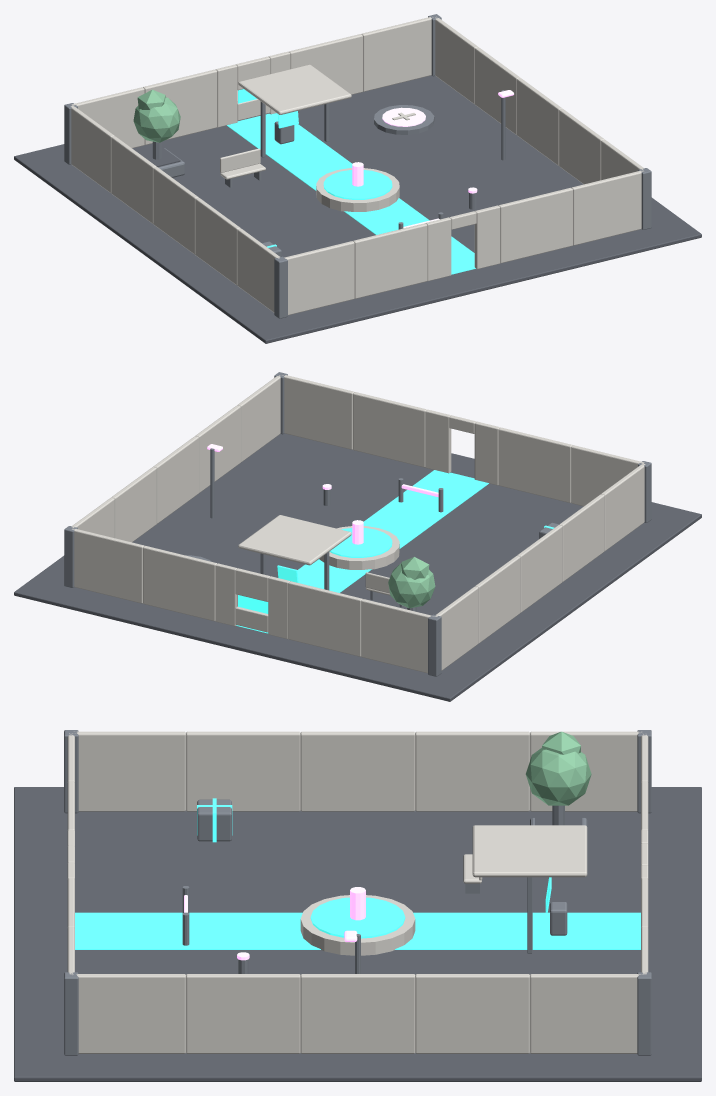
File: future_courtyard_environment.glb
3 renders of one model, top to bottom at view 1: azimuth 30°, elevation 25°; view 2: azimuth 150°, elevation 25°; view 3: azimuth 270°, elevation 25°, orthographic. The views are drawn at different scales.
Parts seen in each view (by area): view 1: ENV_Ground, ENV_CentralWalkway, KIT_WallSolid_S_-4, KIT_WallSolid_S_+4, KIT_WallSolid_S_+8, KIT_WallSolid_N_+8, KIT_WallSolid_S_-8, KIT_Canopy_Roof, KIT_WallSolid_N_-4, KIT_WallSolid_N_+4, KIT_WallSolid_W_+0, KIT_WallSolid_W_+4 (+21 smaller); view 2: ENV_Ground, ENV_CentralWalkway, KIT_WallSolid_N_-4, KIT_WallSolid_S_-4, KIT_WallSolid_N_+4, KIT_WallSolid_S_+4, KIT_WallSolid_N_+8, KIT_WallSolid_S_+8, KIT_WallSolid_N_-8, KIT_Canopy_Roof, KIT_WallSolid_W_+0, KIT_WallSolid_W_+4 (+20 smaller); view 3: ENV_Ground, ENV_CentralWalkway, KIT_WallSolid_W_+0, KIT_WallSolid_E_+0, KIT_WallSolid_W_+4, KIT_WallSolid_E_+4, KIT_WallSolid_E_-4, KIT_WallSolid_W_-4, KIT_WallSolid_W_-8, KIT_WallSolid_E_+8, KIT_WallSolid_E_-8, KIT_Canopy_Roof (+11 smaller).
Boxes of the visible parts, x1,y1,x2,y2 form: ENV_Ground: (14,75,701,343); ENV_CentralWalkway: (227,113,475,274); KIT_WallSolid_S_-4: (353,223,427,298); KIT_WallSolid_S_+4: (498,187,572,263); KIT_WallSolid_S_+8: (571,170,643,245); KIT_WallSolid_N_+8: (361,17,433,91); KIT_WallSolid_S_-8: (284,241,354,315); KIT_Canopy_Roof: (238,64,351,114); KIT_WallSolid_N_-4: (143,69,217,144); KIT_WallSolid_N_+4: (289,34,362,94); KIT_WallSolid_W_+0: (153,167,198,254); KIT_WallSolid_W_+4: (111,136,156,223); ENV_Ground: (14,433,701,701); ENV_CentralWalkway: (236,470,488,633); KIT_WallSolid_N_-4: (288,581,362,656); KIT_WallSolid_S_-4: (498,427,572,502); KIT_WallSolid_N_+4: (143,545,217,621); KIT_WallSolid_S_+4: (353,392,426,467); KIT_WallSolid_N_+8: (72,529,144,603); KIT_WallSolid_S_+8: (282,375,354,449); KIT_WallSolid_N_-8: (361,599,434,673); KIT_Canopy_Roof: (238,515,351,565); KIT_WallSolid_W_+0: (517,525,562,612); KIT_WallSolid_W_+4: (475,555,520,643); ENV_Ground: (14,787,701,1081); ENV_CentralWalkway: (75,912,640,949); KIT_WallSolid_W_+0: (300,731,415,811); KIT_WallSolid_E_+0: (300,974,415,1053); KIT_WallSolid_W_+4: (415,731,529,811); KIT_WallSolid_E_+4: (415,974,529,1053); KIT_WallSolid_E_-4: (186,974,300,1053); KIT_WallSolid_W_-4: (186,731,300,811); KIT_WallSolid_W_-8: (74,731,185,811); KIT_WallSolid_E_+8: (530,974,643,1053); KIT_WallSolid_E_-8: (73,974,185,1053); KIT_Canopy_Roof: (472,825,587,877).
Size of what is drawn, in the model's own units: 24 by 4.55 by 24.
